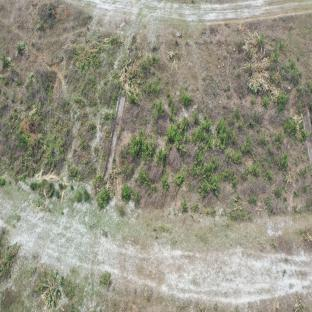slope_drain: (97, 39, 138, 188)
vegetation: (237, 27, 298, 103), (8, 102, 65, 173)
